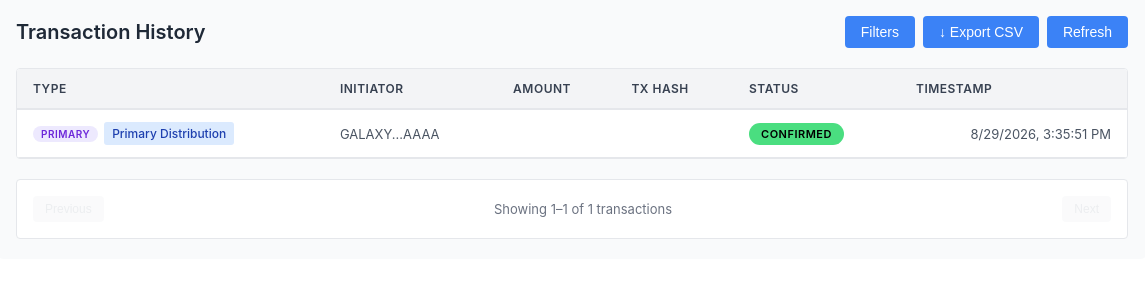
TransactionHistory loading states › keeps existing rows visible (no skeleton) while refreshing
Expected: the text "Showing 1–1 of 1 transactions" is shown, [494,201,672,217]
Click the button "Refresh" at (1088, 32), box [1047,16,1128,48]
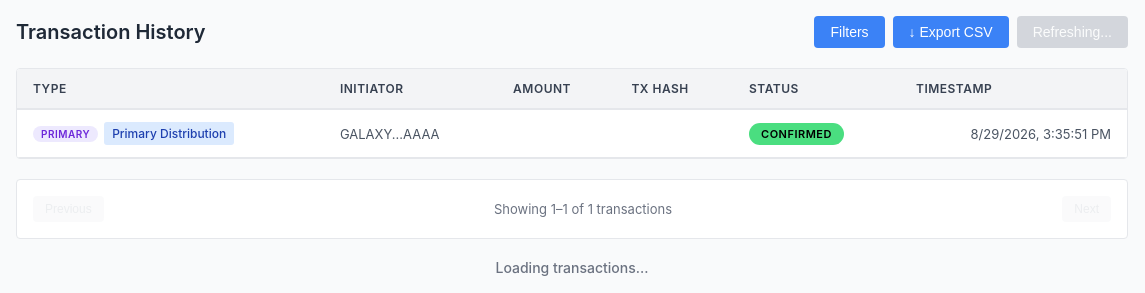
Expected: the text "Showing 1–1 of 1 transactions" is shown, [494,201,672,217]
Expected: the button "Refreshing..." is shown, [1017,16,1128,48]
